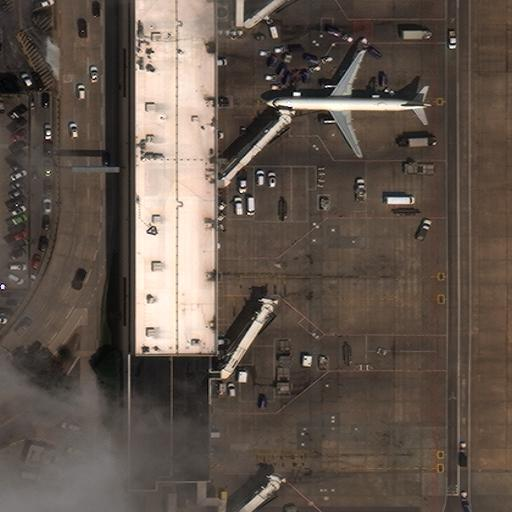Medium Civil Transport: (262, 51, 435, 157)
